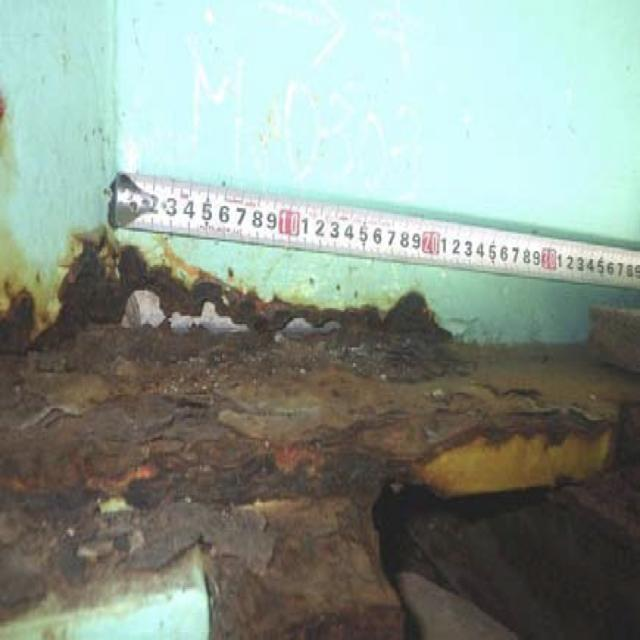corrosion: (4, 216, 627, 628)
